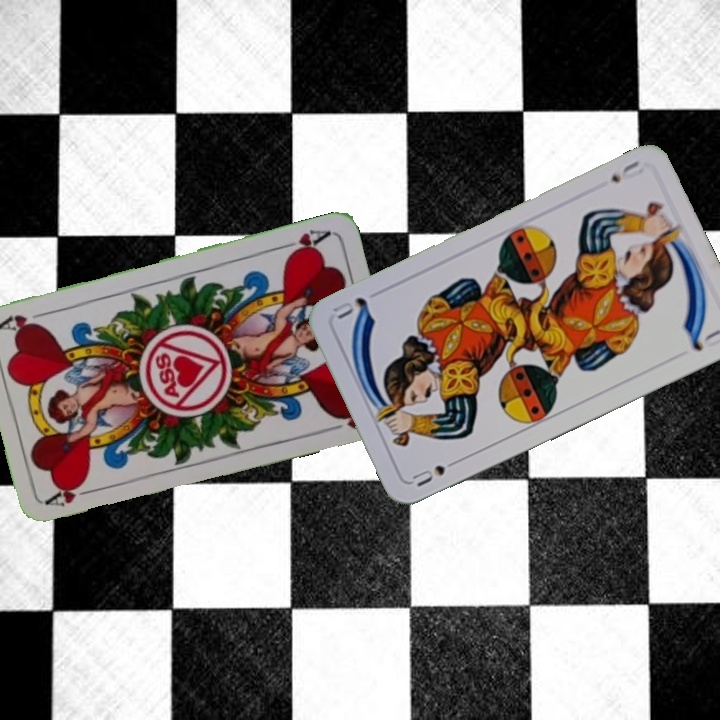HA: (275, 225, 333, 260), (42, 478, 101, 509)
SU: (408, 454, 464, 490), (606, 156, 646, 186)
